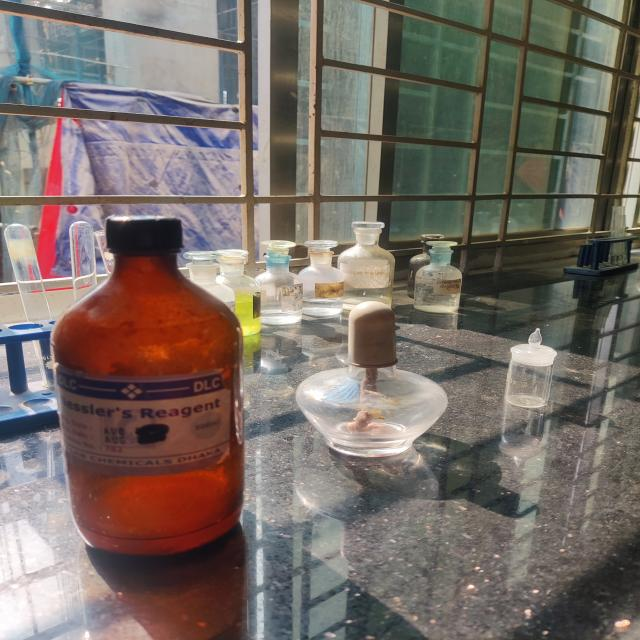Nessler_Reagent_Bottle: (45, 204, 256, 567)
Spirit_Lamp: (292, 294, 464, 486)
Weighing_Bottle: (496, 321, 572, 428)
